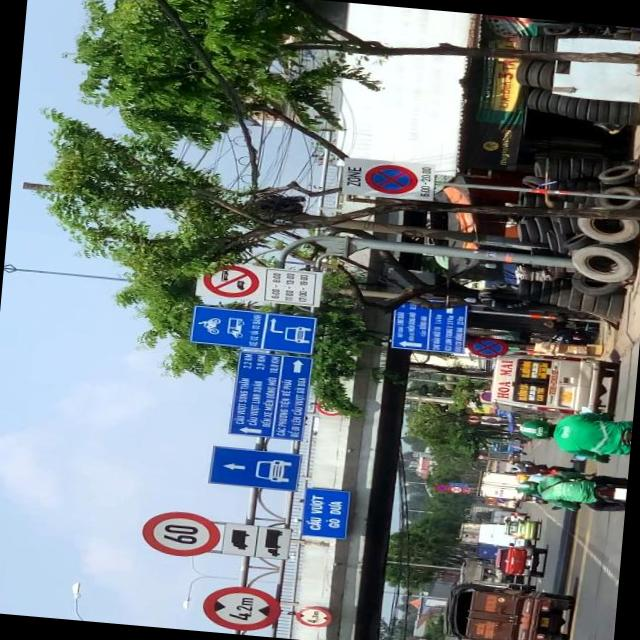P-117: (199, 584, 280, 632)
P-130: (361, 159, 418, 194)
